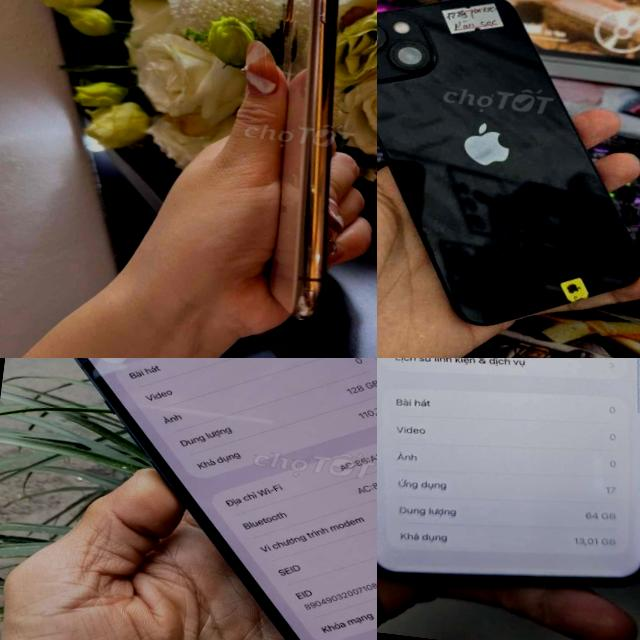gen_11: (377, 358, 640, 614)
gen_12_13: (377, 0, 640, 348)
gen_14: (16, 358, 377, 640)
gen_x_xs: (268, 0, 338, 319)
scratch: (286, 284, 329, 326), (302, 177, 331, 201)
